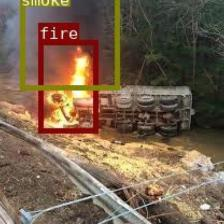fire: (38, 40, 96, 132)
smoke: (20, 0, 119, 89)
